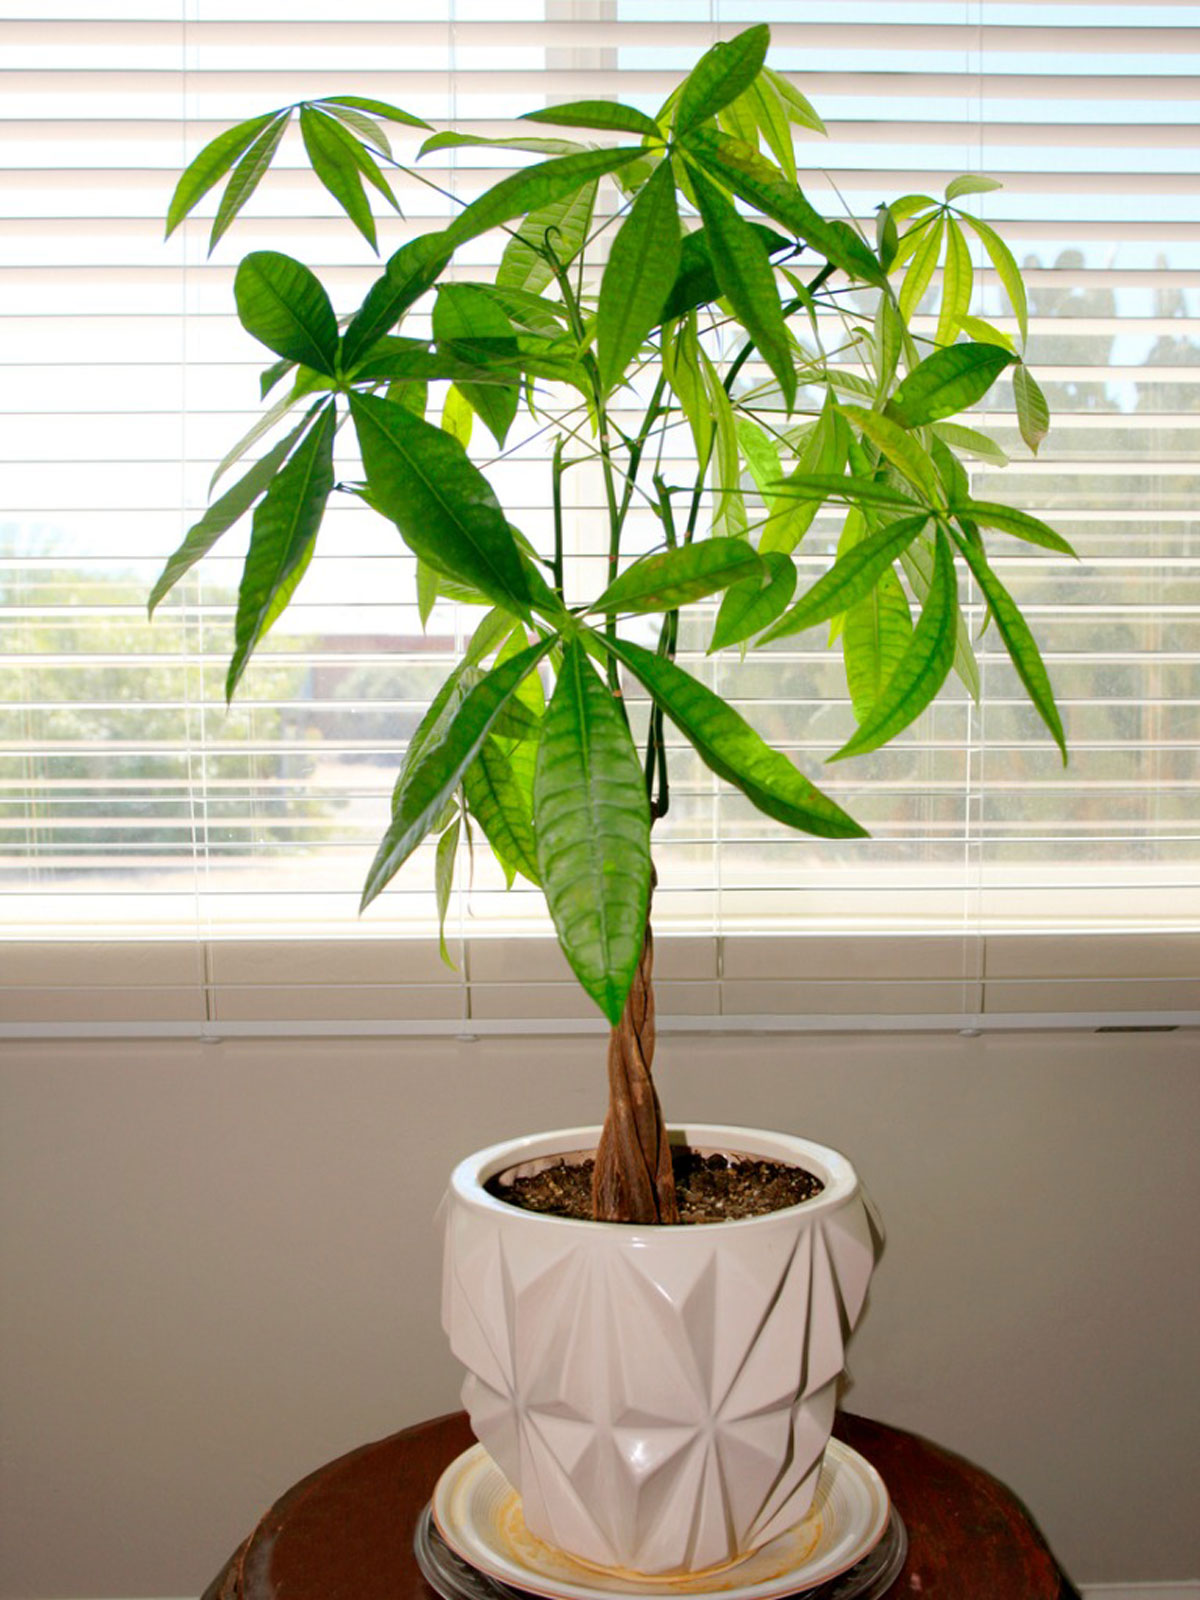tanaman: (153, 33, 1069, 1600)
